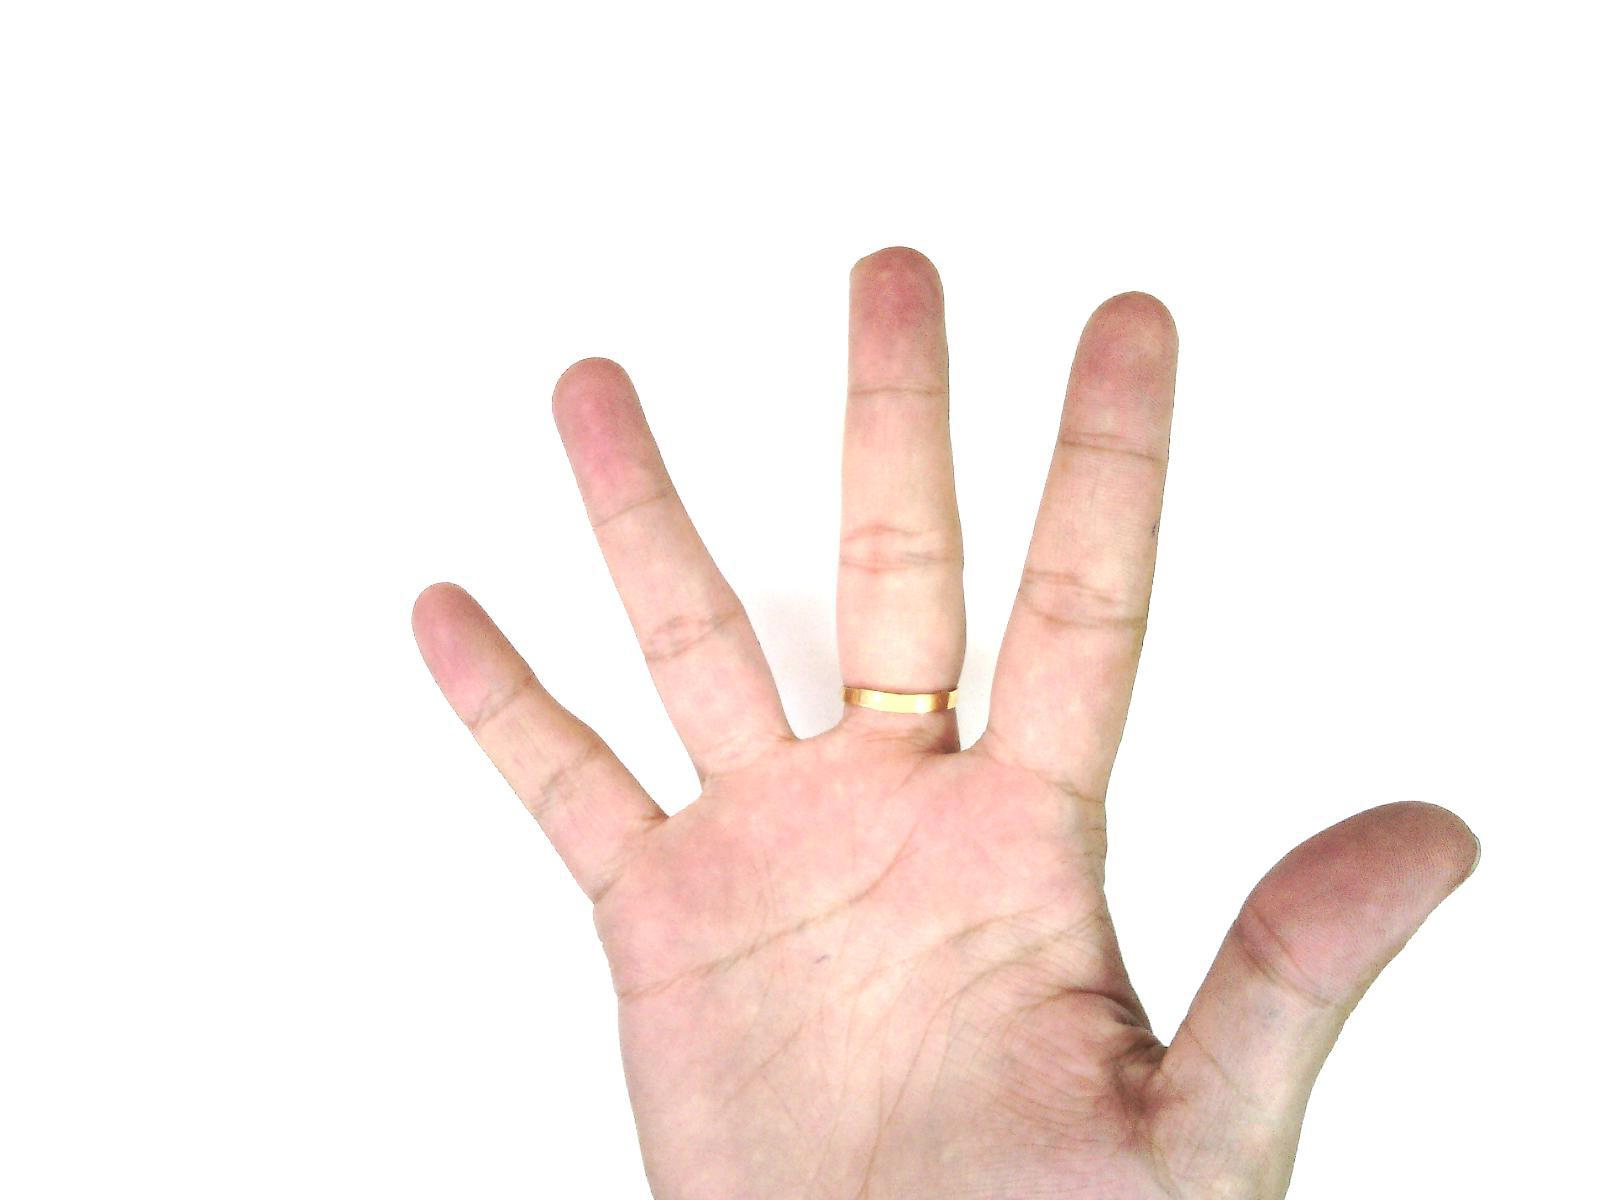hand: (386, 238, 1487, 1200)
